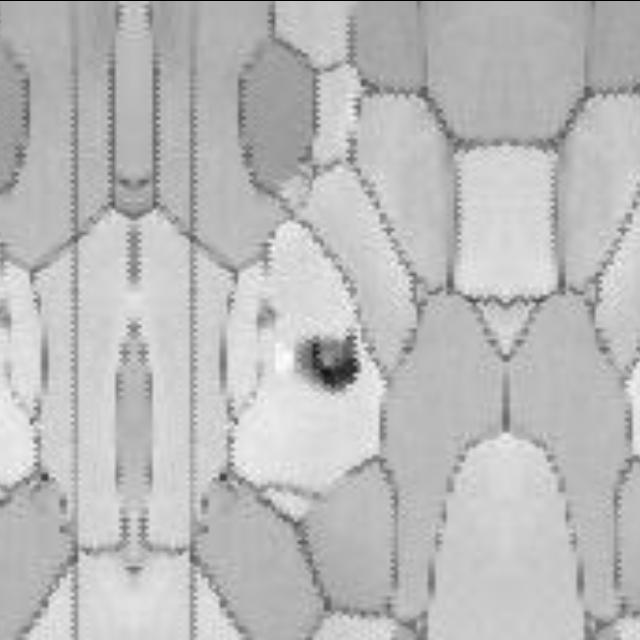good_void: (295, 328, 361, 393)
